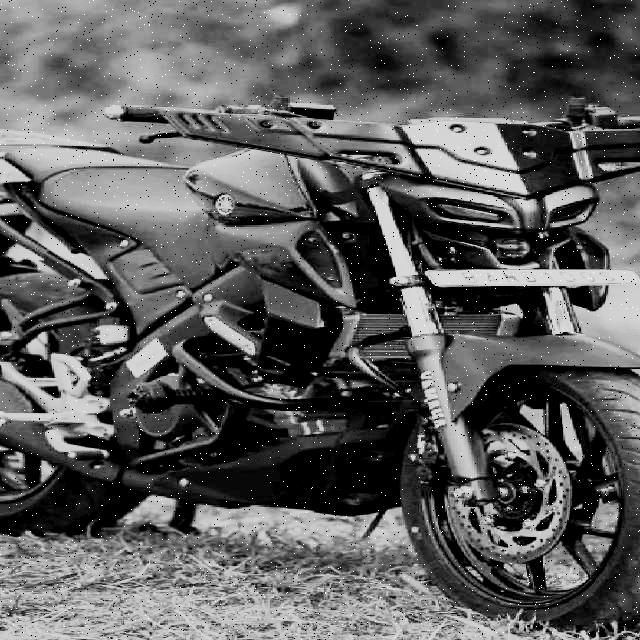Bike: (0, 104, 640, 618)
